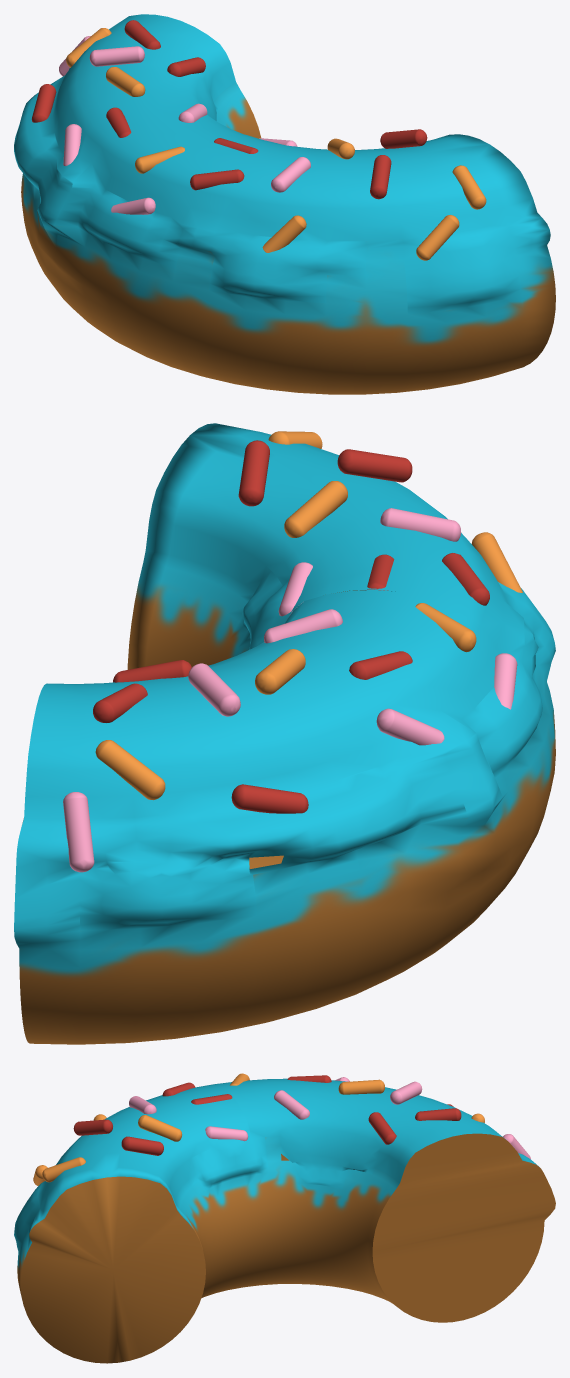
File: donut1_LOD1.fbx
The picture shows the model from 3 angles, top to bottom: view 1: azimuth 30°, elevation 25°; view 2: azimuth 150°, elevation 25°; view 3: azimuth 270°, elevation 25°; orthographic projection. The views are drawn at different scales.
Visible parts, largest first — view 1: pSphere45; view 2: pSphere45; view 3: pSphere45.
Part boxes in pixels (x1,y1,x2,y2): pSphere45: [14, 14, 555, 394]; pSphere45: [14, 423, 555, 1044]; pSphere45: [14, 1073, 555, 1363].
Bounding box in the file's own units: 140 × 95.02 × 229.
1 material, 1 textured.
